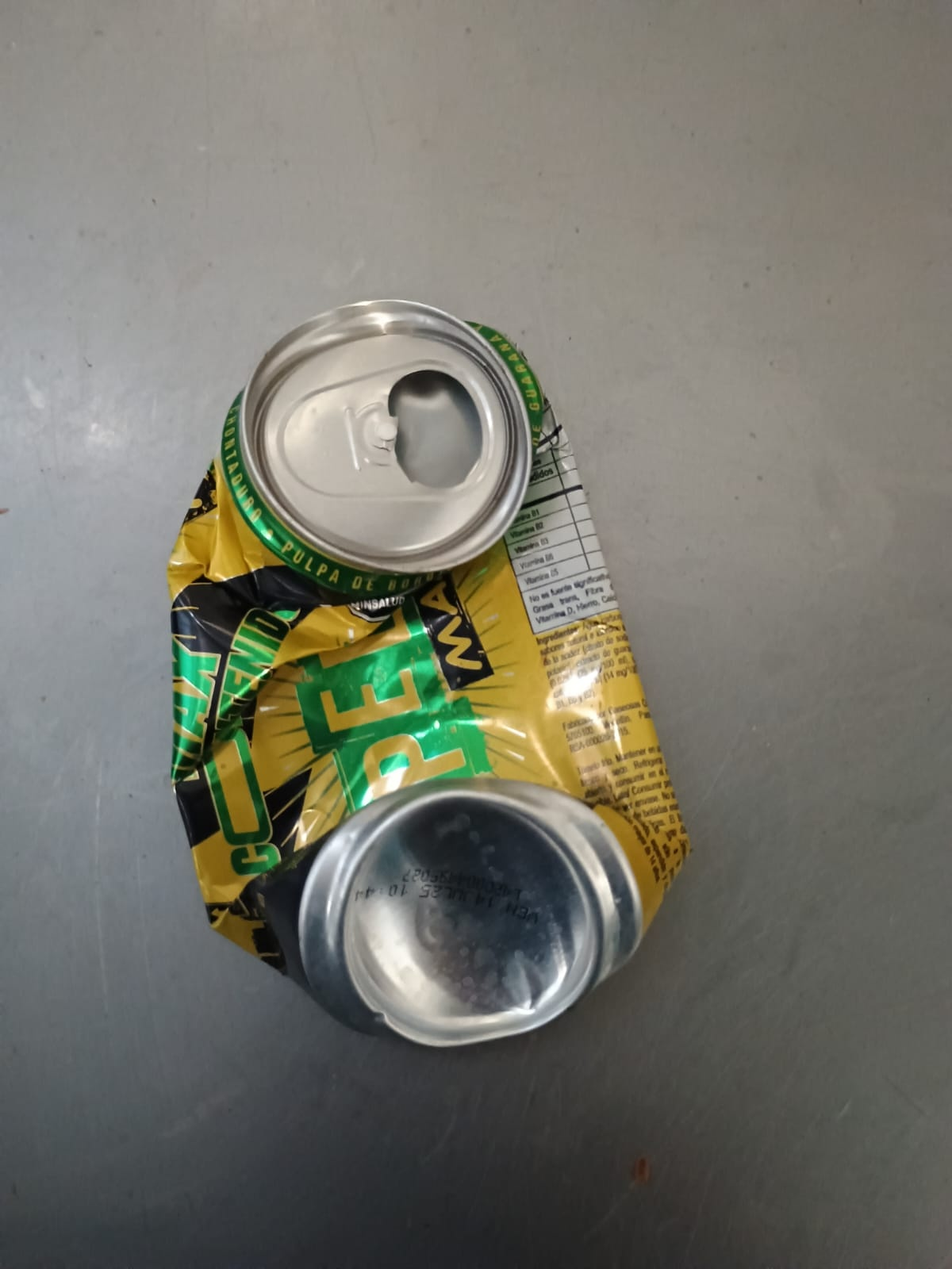Metal: (161, 303, 694, 1051)
